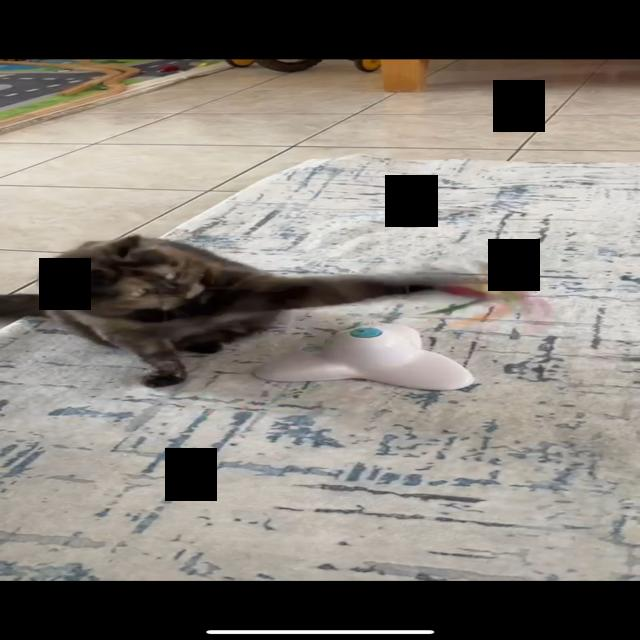authorized: (1, 233, 532, 388)
